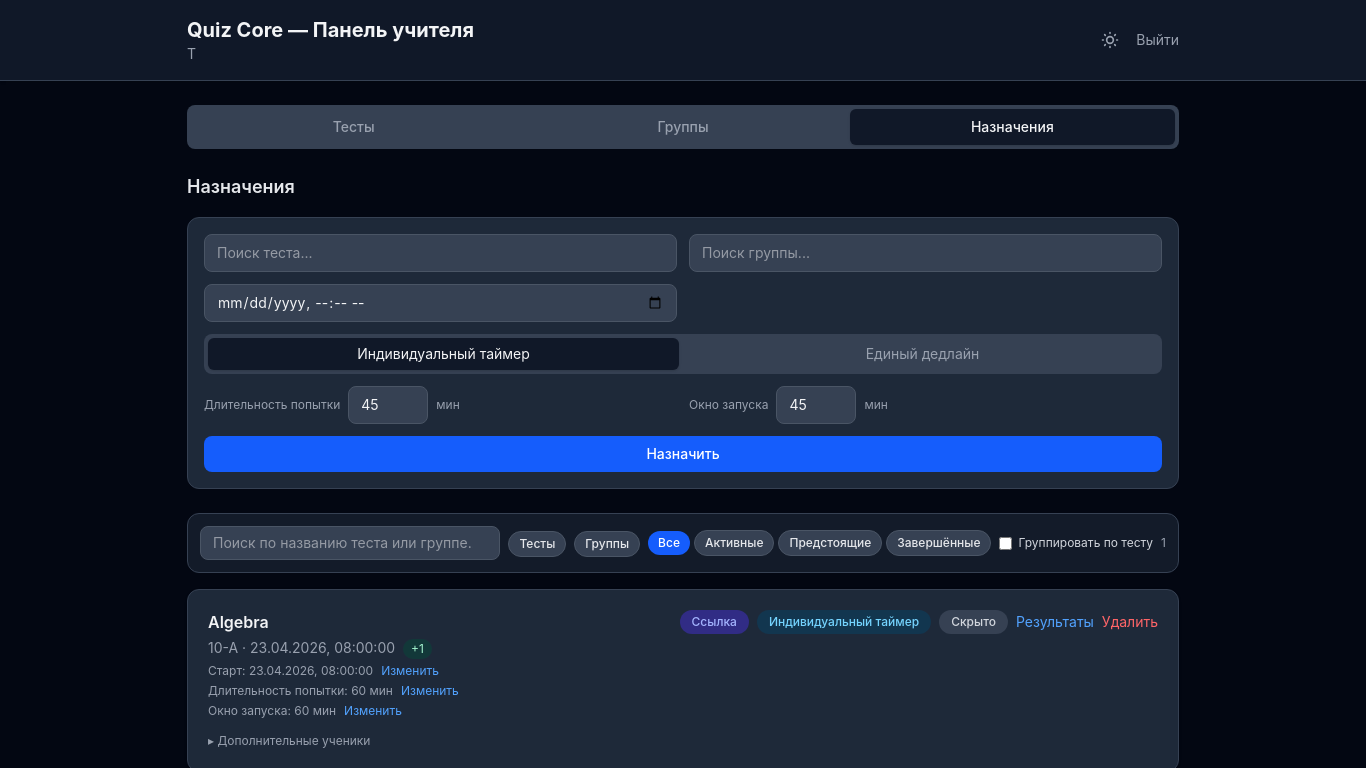
Test: TeacherDashboard AssignmentExtrasEditor › shows the +N badge and lazy-loads the list on expand
The image size is (1366, 768).
Expected: the text "+1" is shown, [403, 639, 432, 659]
Click the button "▸ Дополнительные ученики".
click(289, 741)  # box [208, 733, 370, 749]
(page scrolled)
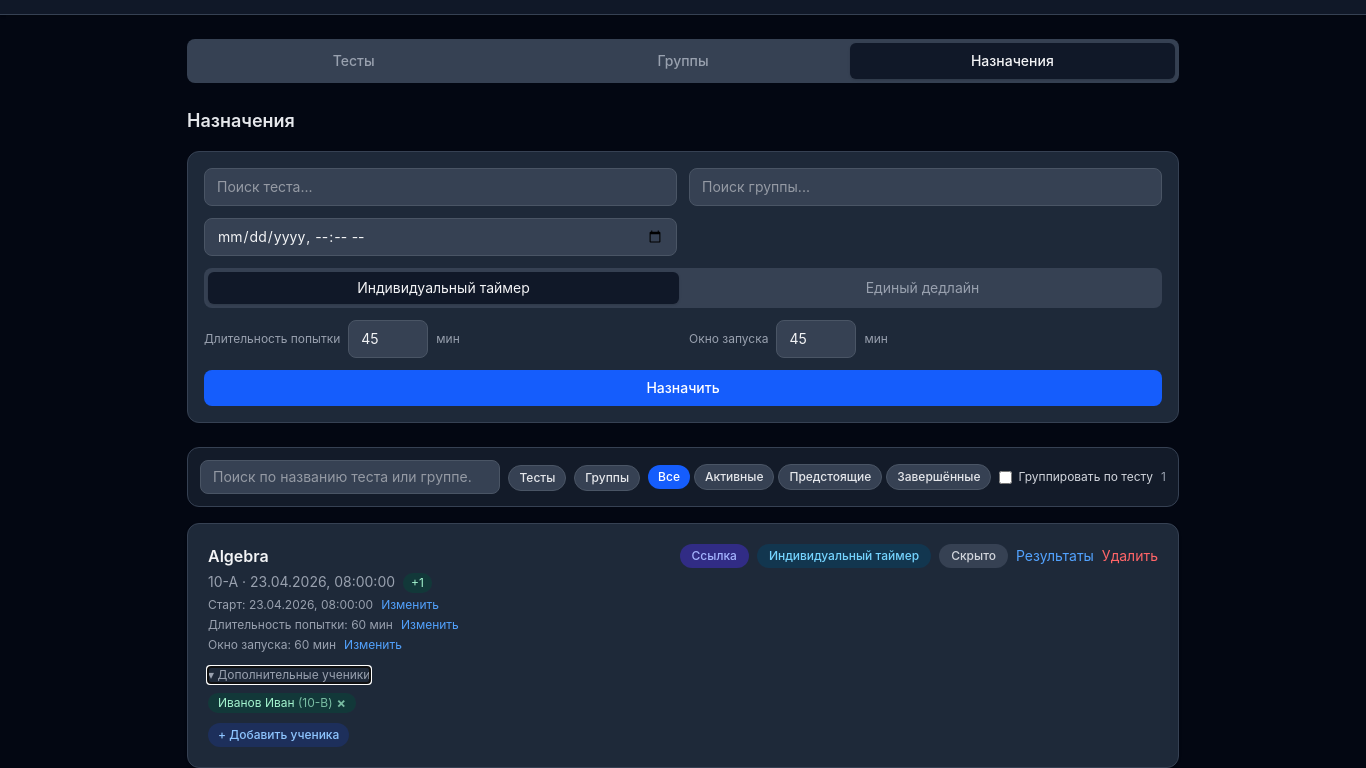
Now the text "Иванов Иван (10-B)" is shown, box [218, 695, 333, 711]
